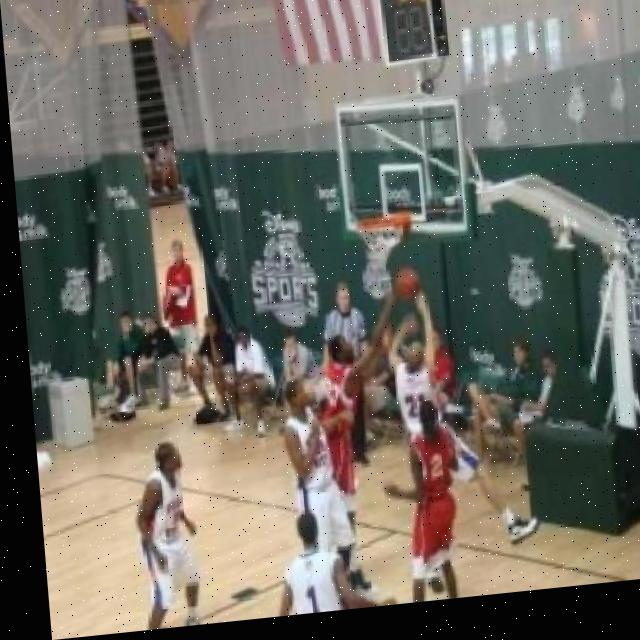basketball: (392, 265, 423, 304)
hoop: (355, 213, 407, 267)
